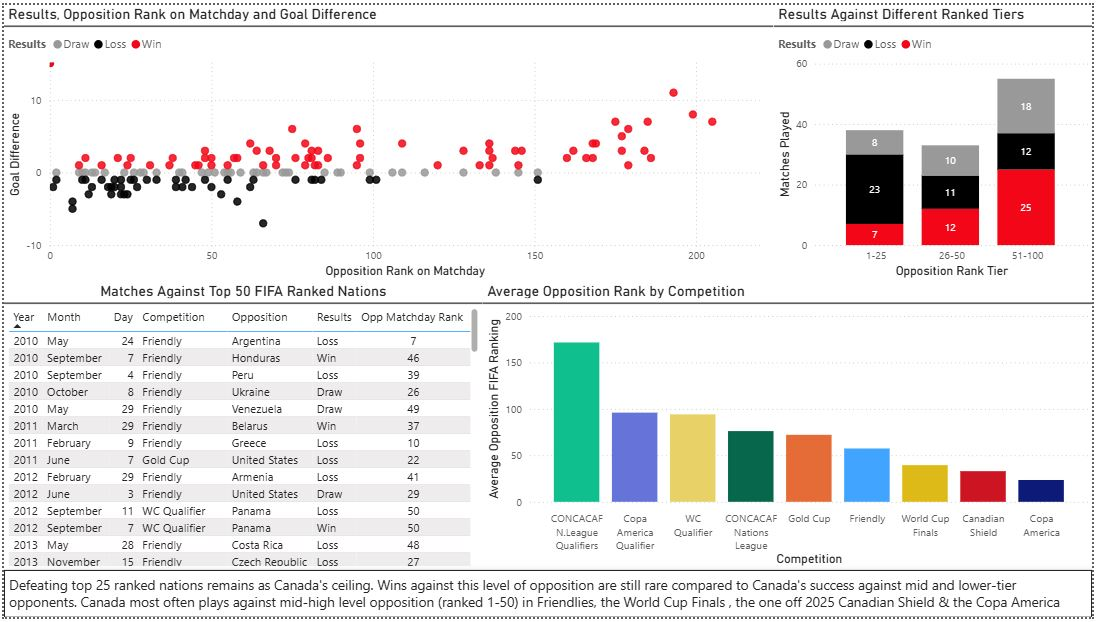

The dashboard page shown, as its layout file describes it:
{"tool":"powerbi","page":{"name":"Opponent Strength","canvas":[1280,720],"ordinal":2},"visuals":[{"type":"scatterChart","fields":{"X":["results_vs_opponent_strength.opponent_rank_at_match_time"],"Y":["results_vs_opponent_strength.goal_diff"],"Series":["results_vs_opponent_strength.results"]},"box":[0,0,905.3,325.8],"z":0},{"type":"tableEx","title":"Matches Against Top 50 FIFA Ranked Nations ","fields":{"Values":["results_vs_opponent_strength.match_date.Variation.Date Hierarchy.Year","results_vs_opponent_strength.match_date.Variation.Date Hierarchy.Month","results_vs_opponent_strength.match_date.Variation.Date Hierarchy.Day","results_vs_opponent_strength.competition","results_vs_opponent_strength.opponent","results_vs_opponent_strength.results","results_vs_opponent_strength.opponent_rank_at_match_time"]},"box":[0,325.8,563.2,338.6],"z":1000},{"type":"columnChart","title":"Results Against Different Ranked Tiers","fields":{"Category":["results_vs_opponent_strength.opponent_tier"],"Series":["results_vs_opponent_strength.results"],"Y":["CountNonNull(results_vs_opponent_strength.match_date)"]},"box":[905.3,0,374.7,325.8],"z":2000},{"type":"columnChart","title":"Average Opposition Rank by Competition","fields":{"Category":["results_vs_opponent_strength.competition"],"Y":["Avg(results_vs_opponent_strength.opponent_rank_at_match_time)"],"Series":["results_vs_opponent_strength.competition"]},"box":[563.2,325.8,716.8,338.6],"z":3000},{"type":"textbox","box":[0,664.4,1280,55.9],"z":4000}]}

Visuals, with their boxes in screenshot pixels (x1, y1, x2, y2), scaled from the page's 1280x720 canvas onto the 1096x622 screenshot:
scatterChart - results_vs_opponent_strength.opponent_rank_at_match_time x results_vs_opponent_strength.goal_diff: 0/0/775/281
"Matches Against Top 50 FIFA Ranked Nations " tableEx: 0/281/482/574
"Results Against Different Ranked Tiers" columnChart: 775/0/1095/281
"Average Opposition Rank by Competition" columnChart: 482/281/1095/574
textbox: 0/574/1095/621
